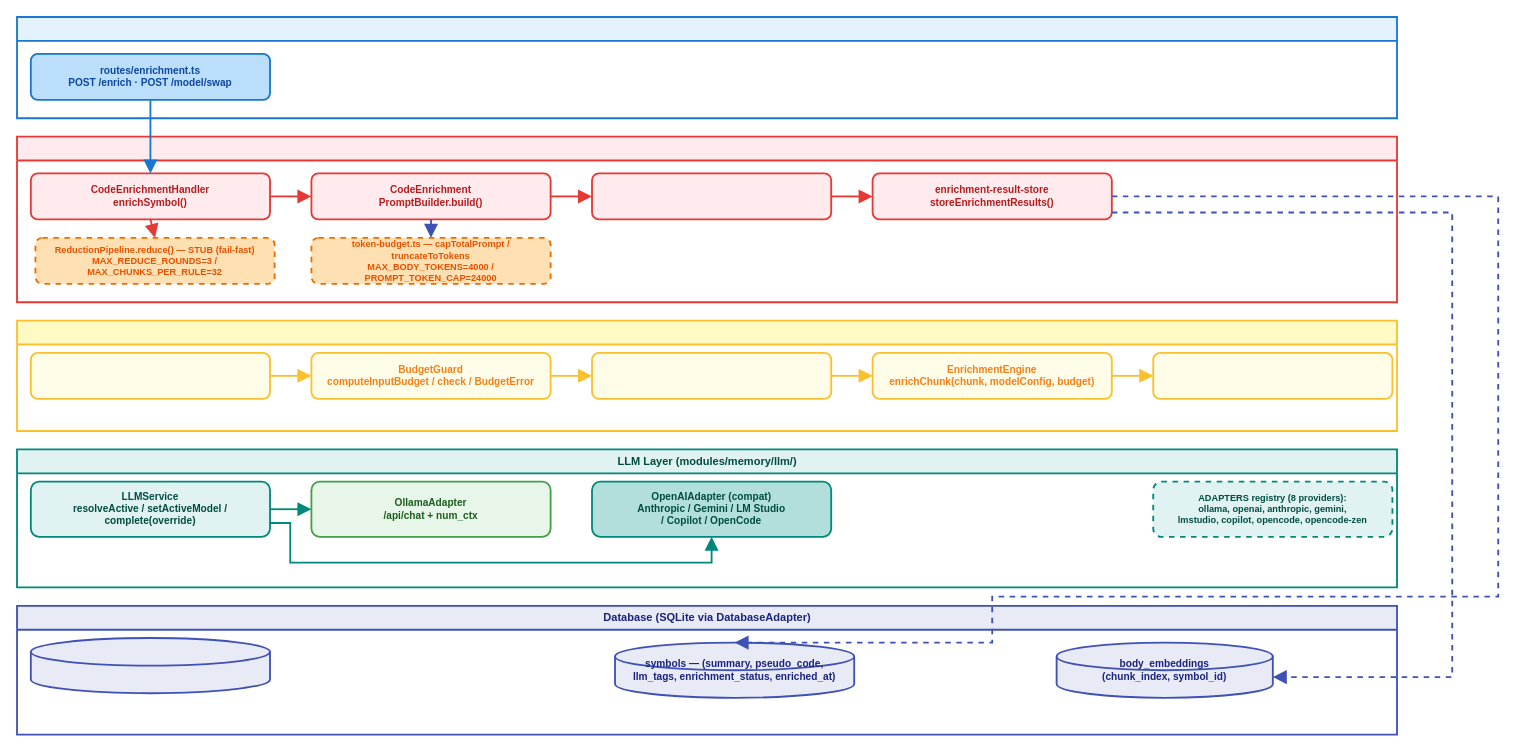
Some shapes in this 1525 by 751 pixel diagram are drawn without their labels. Each missing label, with the box of its shape:
API Layer (Hono): (16, 16, 1397, 119)
ContextWindowDiscovery getContextWindow / invalidateWindowCache: (591, 351, 832, 399)
Enrichment Pipeline (engine/enrichment/ — SA4E-107): (16, 135, 1397, 303)
enrichment-response-parser parseEnrichmentResponse(): (591, 172, 832, 220)
files / modules / embeddings / relationships / file_index: (29, 637, 270, 694)
MapReduce reduceResults(enrichedChunks): (1152, 351, 1393, 399)
ModelResolver resolveModel(modelName, ticketId): (29, 351, 270, 399)
SA4E-387 New Modules (modules/enrichment/): (16, 319, 1397, 431)
